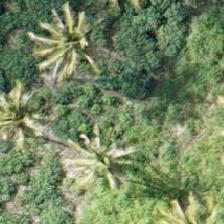coconut_tree: (10, 5, 100, 95), (58, 118, 148, 208), (0, 79, 51, 169)
